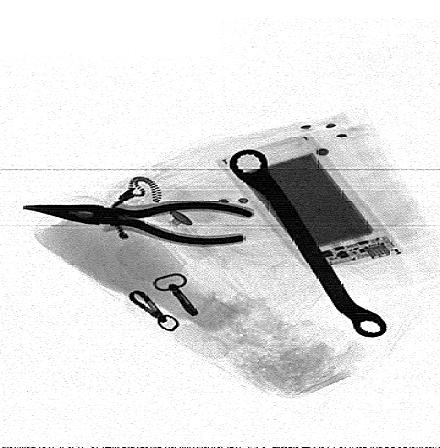Pliers: (19, 200, 255, 247)
Powerbank: (215, 132, 405, 276)
Wrench: (228, 148, 386, 338)
